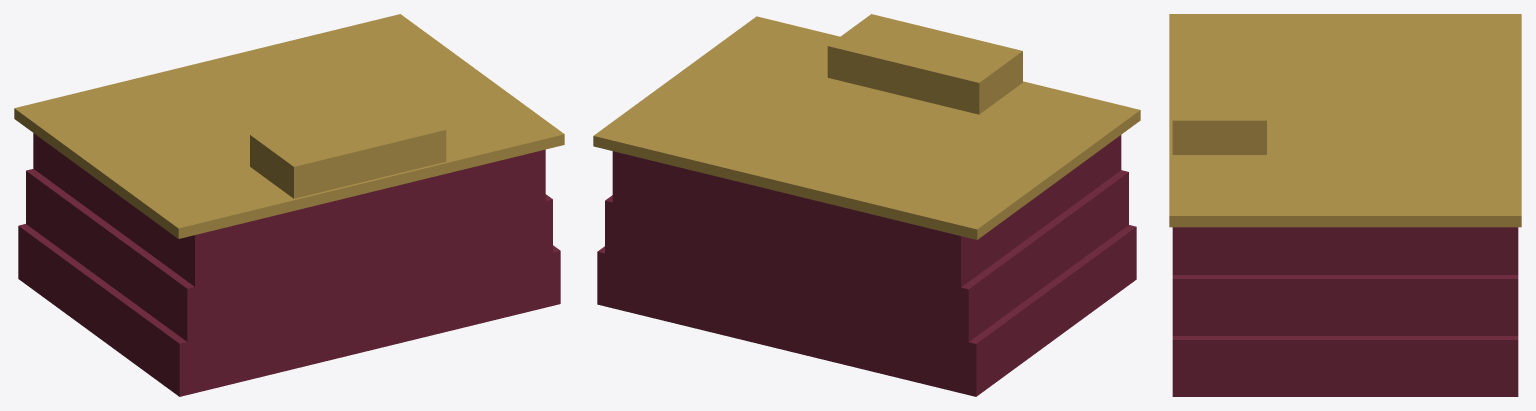
Rendered from clothes-fine.lod.glb.
3 renders of one model, left to right at view 1: azimuth 30°, elevation 25°; view 2: azimuth 150°, elevation 25°; view 3: azimuth 270°, elevation 25°, orthographic. The views are drawn at different scales.
Parts seen in each view (by area): view 1: m; view 2: m; view 3: m.
Part boxes in pixels (left/top/right/bottom): m: left=14, top=14, right=564, bottom=396; m: left=593, top=14, right=1140, bottom=396; m: left=1169, top=14, right=1521, bottom=396.
Size of the model in its own units: 0.15 by 0.075 by 0.1105.
